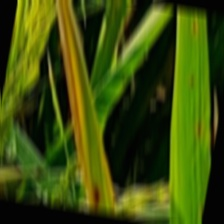Leaf_Blast: (30, 0, 121, 176)
